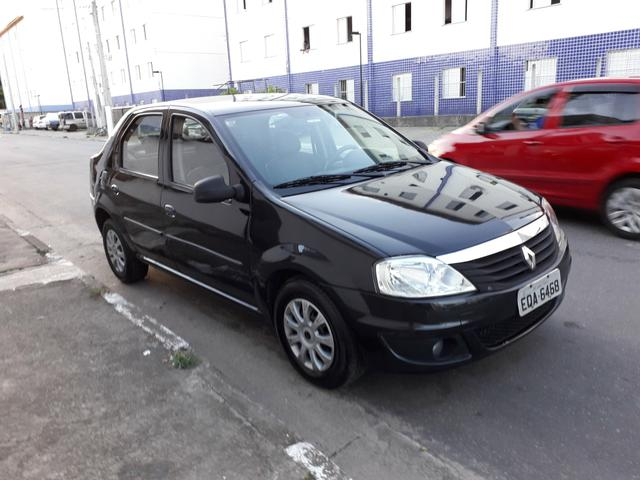Carro: (84, 90, 573, 394), (415, 77, 640, 240), (57, 110, 101, 132), (35, 110, 76, 133)
